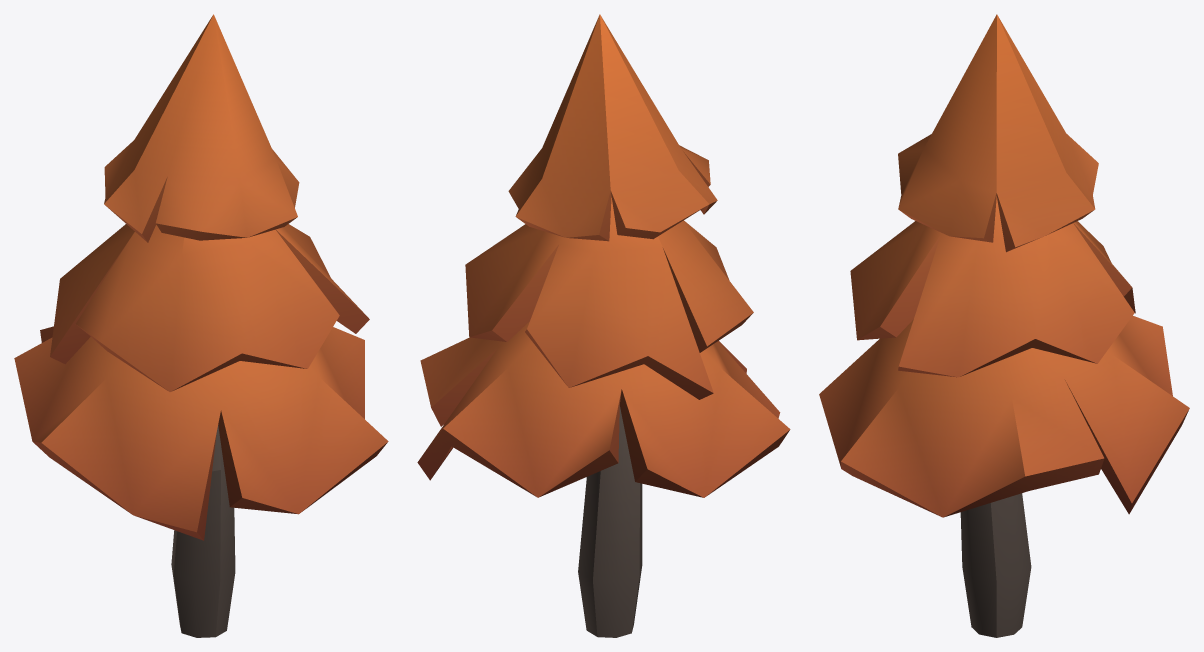
File: tree_pine_orange_small.glb
3 renders of one model, left to right at view 1: azimuth 30°, elevation 25°; view 2: azimuth 150°, elevation 25°; view 3: azimuth 270°, elevation 25°, orthographic.
Visible parts, largest first — view 1: tree_pine_orange_small; view 2: tree_pine_orange_small; view 3: tree_pine_orange_small.
Boxes of the visible parts, <box> form: tree_pine_orange_small: <box>14,14,388,637</box>; tree_pine_orange_small: <box>417,14,790,637</box>; tree_pine_orange_small: <box>819,14,1189,637</box>.
Size of the model in its own units: 2.4 by 4.04 by 2.2.
1 material, 1 textured.
